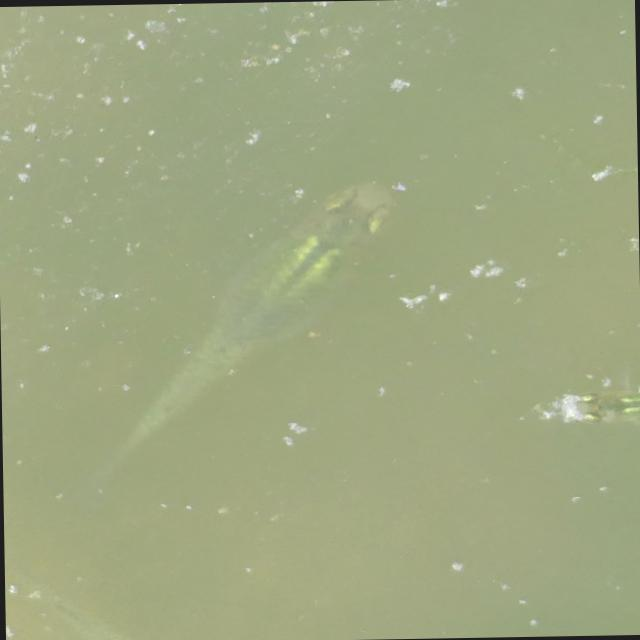Sivrisinek Baligi: (70, 170, 404, 500), (554, 382, 640, 431)
